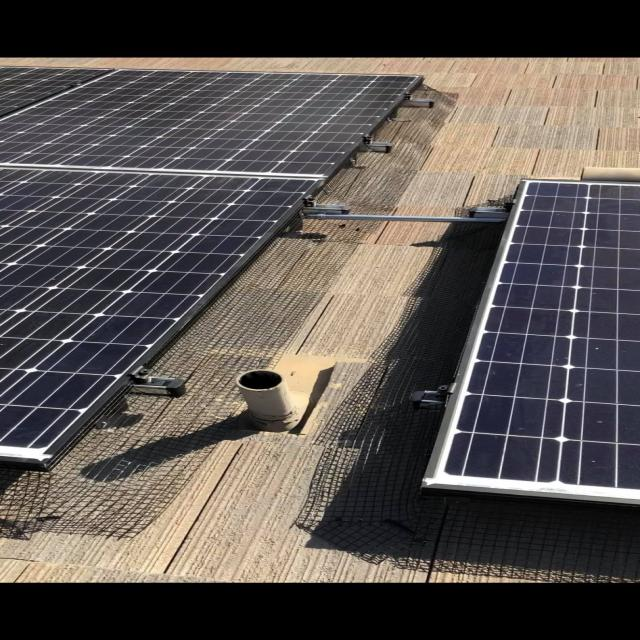clean-solar-panel: (0, 68, 422, 470)
